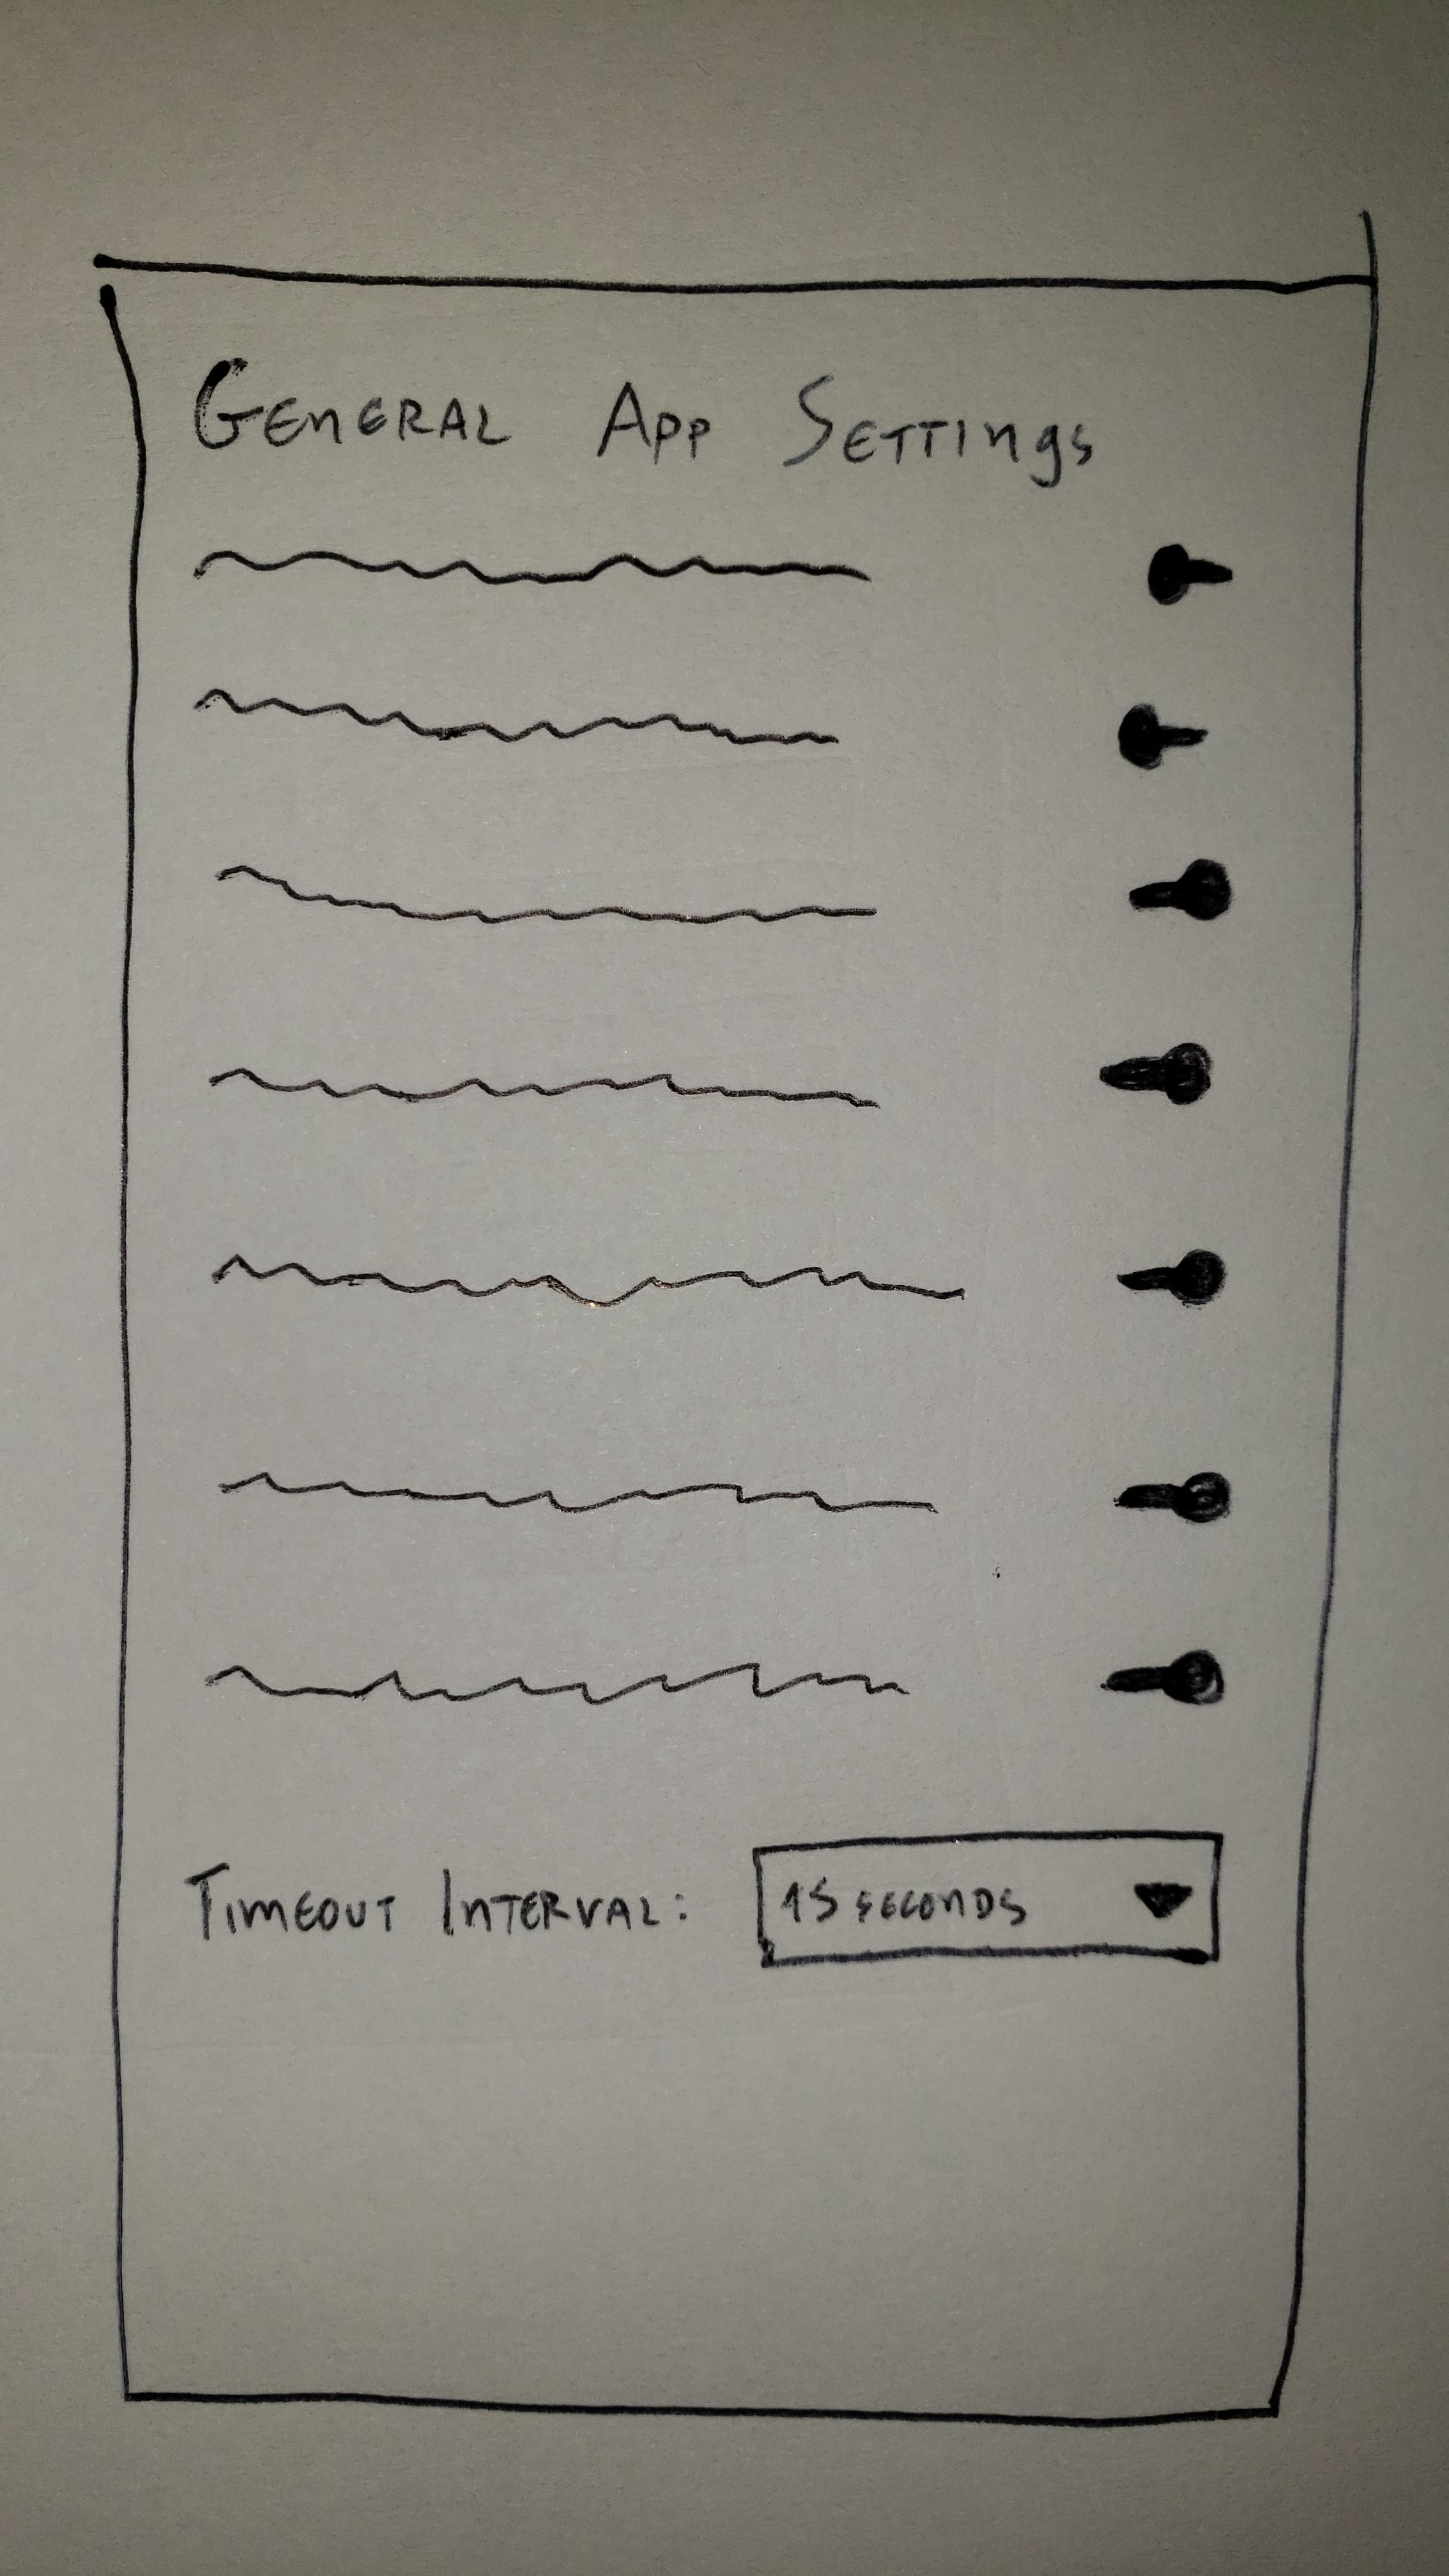Label: (182, 354, 1100, 494), (180, 1858, 702, 1948)
ListPicker: (743, 1828, 1226, 1967)
Screen: (92, 249, 1376, 2429)
Switch: (195, 686, 1212, 777), (216, 853, 1238, 936), (203, 1642, 1230, 1711), (205, 1040, 1219, 1109), (188, 543, 1237, 607), (211, 1242, 1235, 1306), (207, 1465, 1233, 1523)
